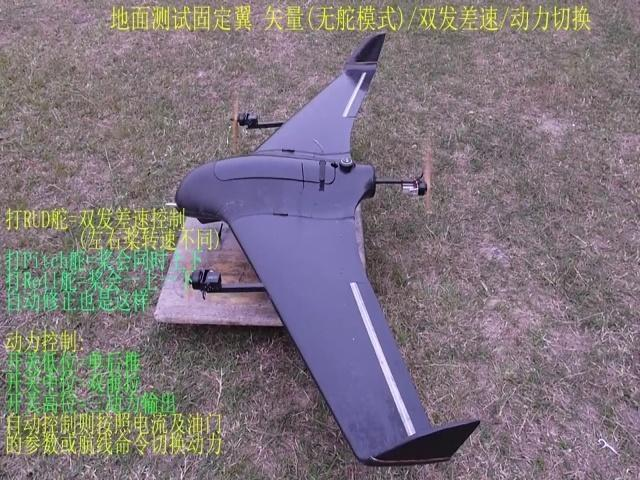Airplane: (167, 32, 480, 466)
